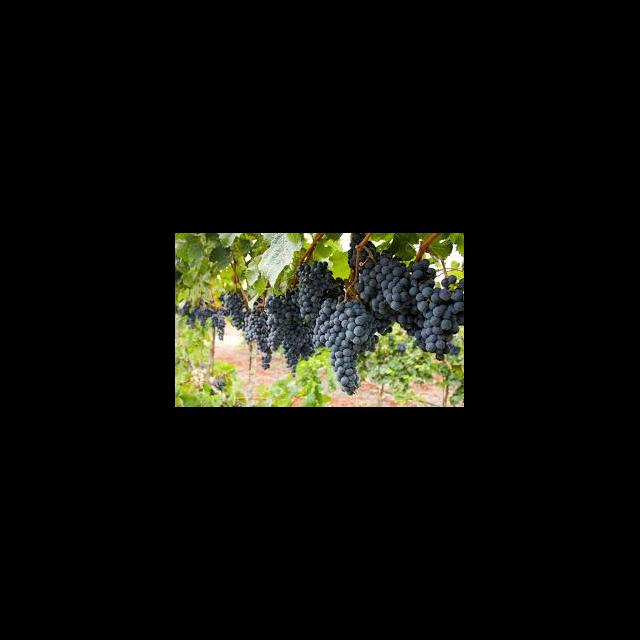grape: (176, 245, 464, 395)
